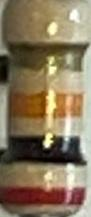Black: (1, 133, 85, 164)
Orange: (9, 91, 84, 120)
Red: (0, 183, 88, 206)
Side-Gold: (6, 40, 89, 69)
